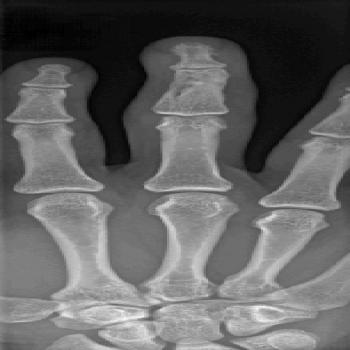Fracture: (154, 70, 225, 96)
